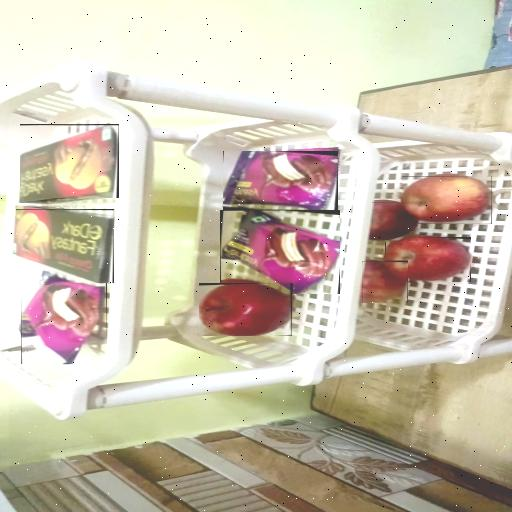Apple: (199, 283, 292, 336), (402, 176, 492, 224), (385, 238, 471, 284), (362, 261, 408, 303), (372, 202, 418, 242)
Choco Fills: (20, 124, 119, 198), (16, 209, 114, 283)
Choco Pie: (220, 210, 340, 294), (21, 275, 107, 364), (223, 151, 338, 210)
